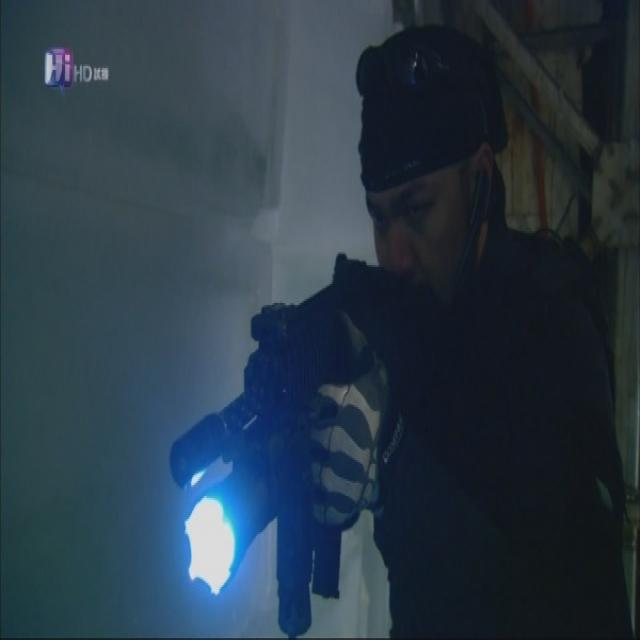rifle: (172, 245, 405, 636)
